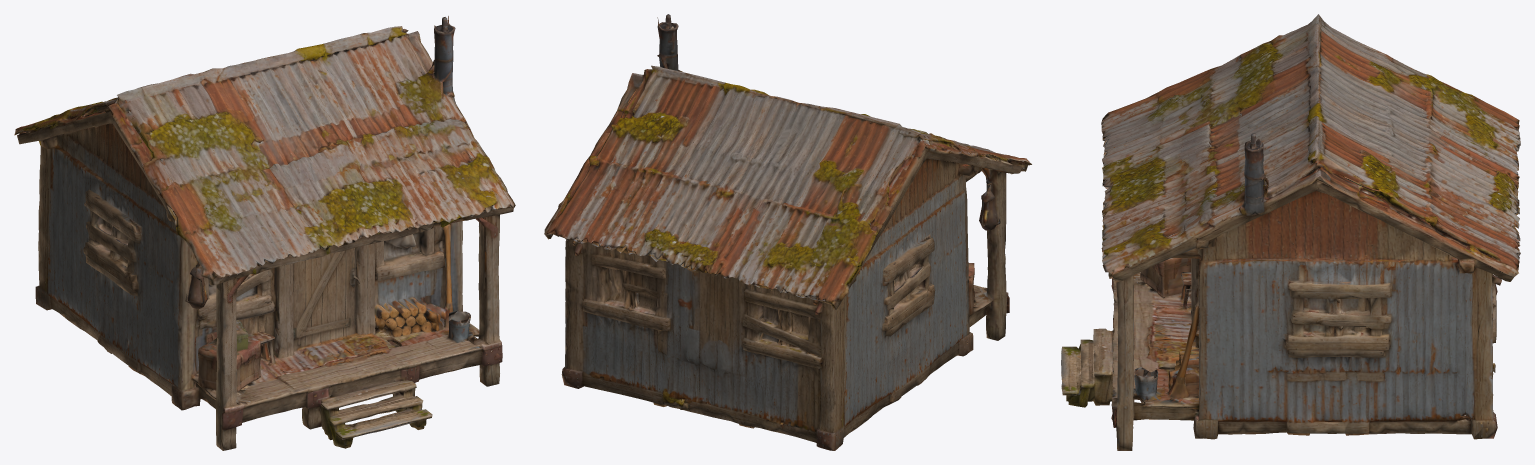
Rendered from House_Shack.fbx.
The picture shows the model from 3 angles, left to right: view 1: azimuth 30°, elevation 25°; view 2: azimuth 150°, elevation 25°; view 3: azimuth 270°, elevation 25°; orthographic projection. The views are drawn at different scales.
Parts seen in each view (by area): view 1: texture_mapping; view 2: texture_mapping; view 3: texture_mapping.
Boxes of the visible parts, left/top/right/bottom form: texture_mapping: left=14, top=16, right=515, bottom=450; texture_mapping: left=544, top=14, right=1031, bottom=450; texture_mapping: left=1061, top=14, right=1520, bottom=450.
Bounding box in the file's own units: 0.8346 × 0.7918 × 1.
Materials: 1 (1 with a texture image).
